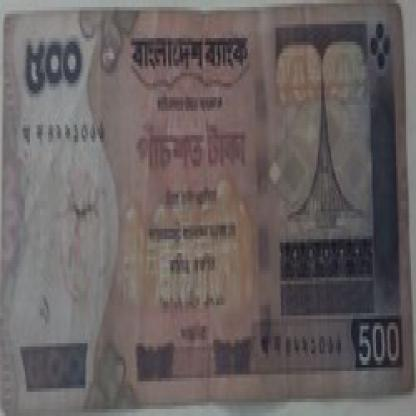500 taka: (19, 38, 92, 94), (353, 308, 404, 371)
currency: (0, 10, 415, 406)
